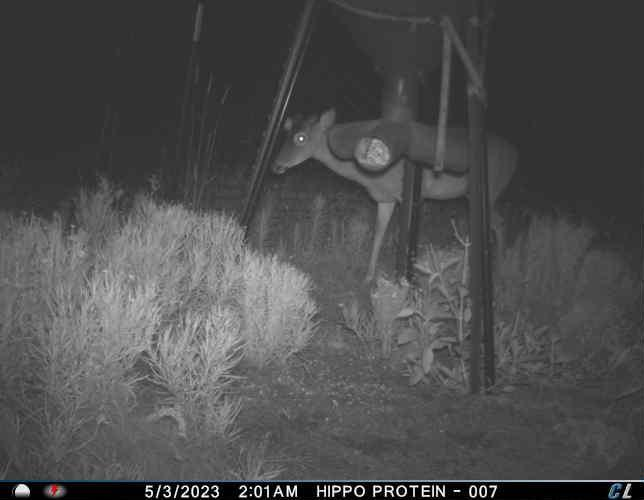Deer: (271, 104, 521, 287)
